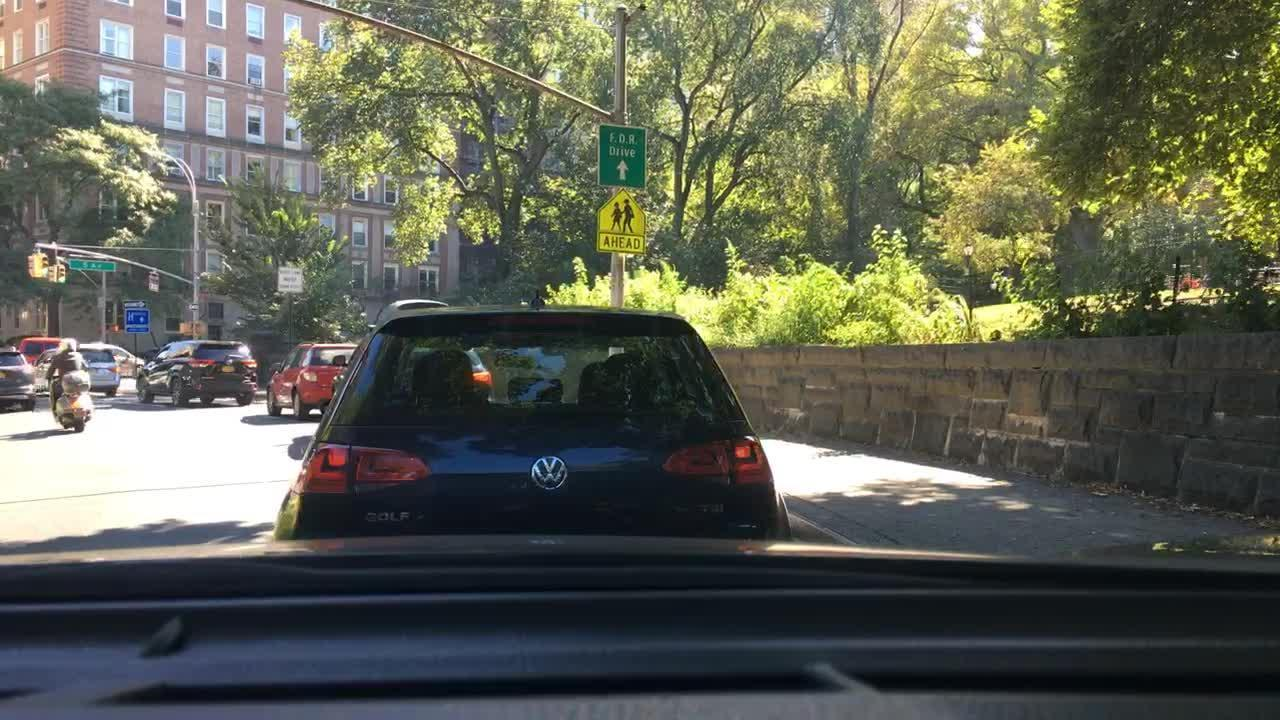Volkswagen: (527, 452, 572, 495)
